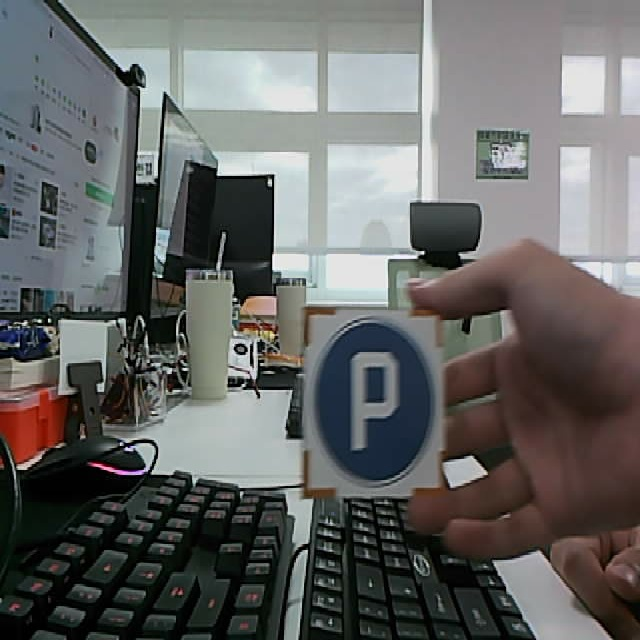parking: (301, 306, 444, 496)
